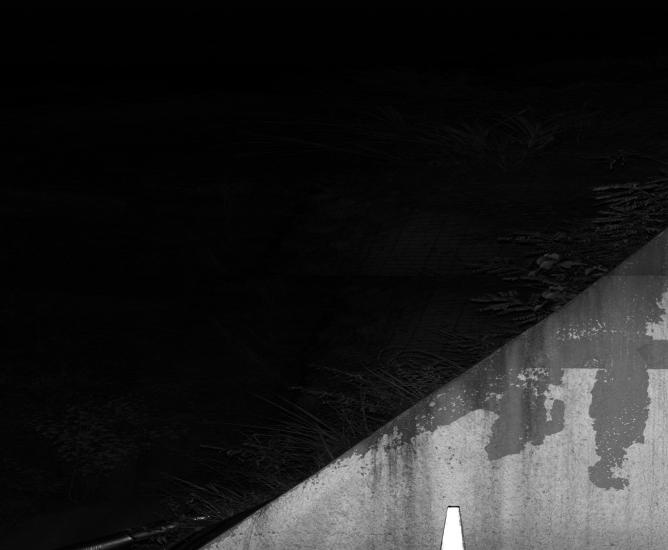渗水: (425, 324, 668, 453)
